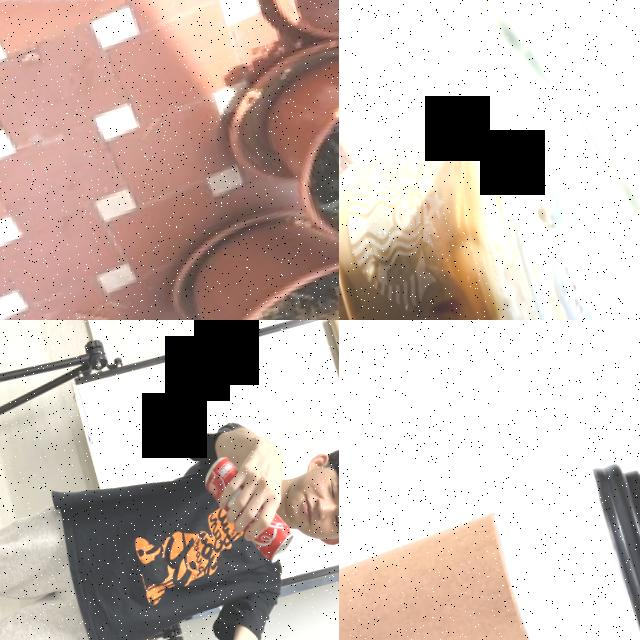can: (195, 442, 299, 578)
cup: (339, 48, 640, 320), (339, 449, 640, 640)
